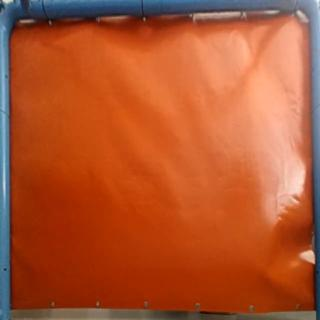Hit-hRxx: (258, 270, 278, 288)
